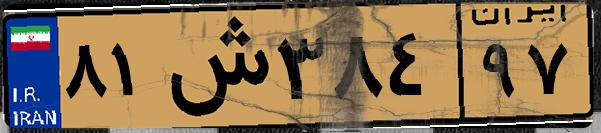1: (110, 28, 158, 98)
3: (270, 28, 330, 110)
4: (385, 28, 445, 110)
7: (525, 38, 570, 115)
8: (330, 28, 385, 110), (57, 26, 110, 100)
9: (475, 38, 525, 113)
ش: (158, 12, 270, 120)
